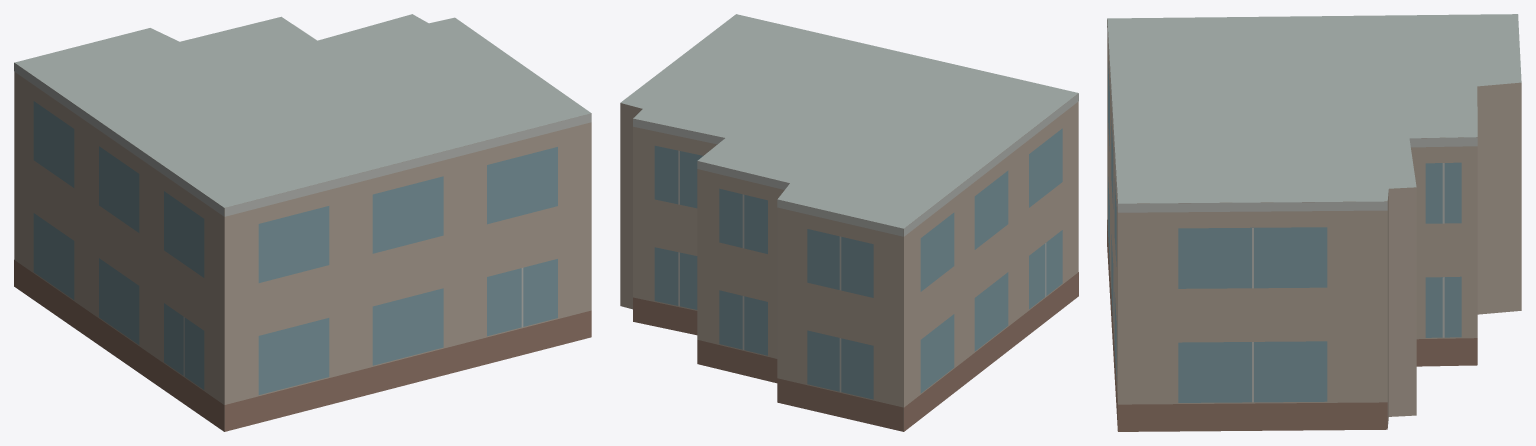
File: survey-upis-33030609.glb
3 views of the same model, side by side, from view 1: azimuth 30°, elevation 25°; view 2: azimuth 150°, elevation 25°; view 3: azimuth 270°, elevation 25° (orthographic). The views are drawn at different scales.
Visible parts, largest first — view 1: survey-upis-33030609.tmp; view 2: survey-upis-33030609.tmp; view 3: survey-upis-33030609.tmp.
Part boxes in pixels (x1,y1,x2,y2): survey-upis-33030609.tmp: (14,14,591,431); survey-upis-33030609.tmp: (620,14,1078,431); survey-upis-33030609.tmp: (1107,14,1521,431).
Bounding box in the file's own units: 10.88 × 6.1 × 10.04.
